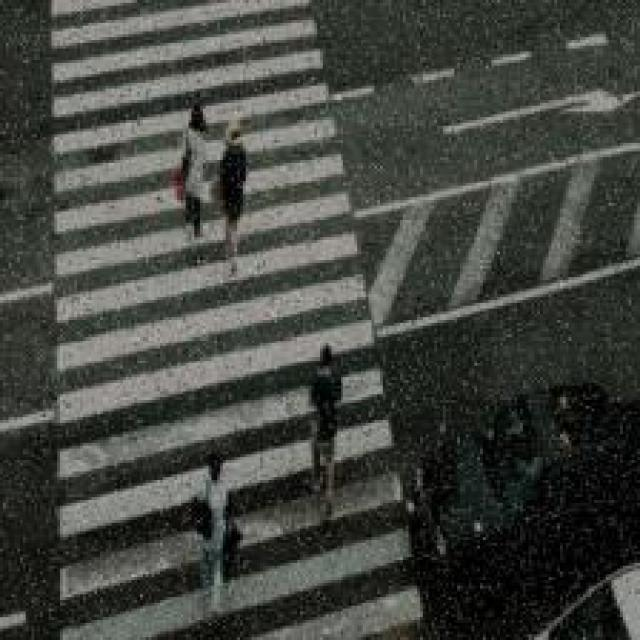walk-crossing: (37, 0, 429, 637)
